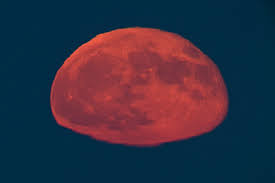moon: (48, 28, 229, 144)
